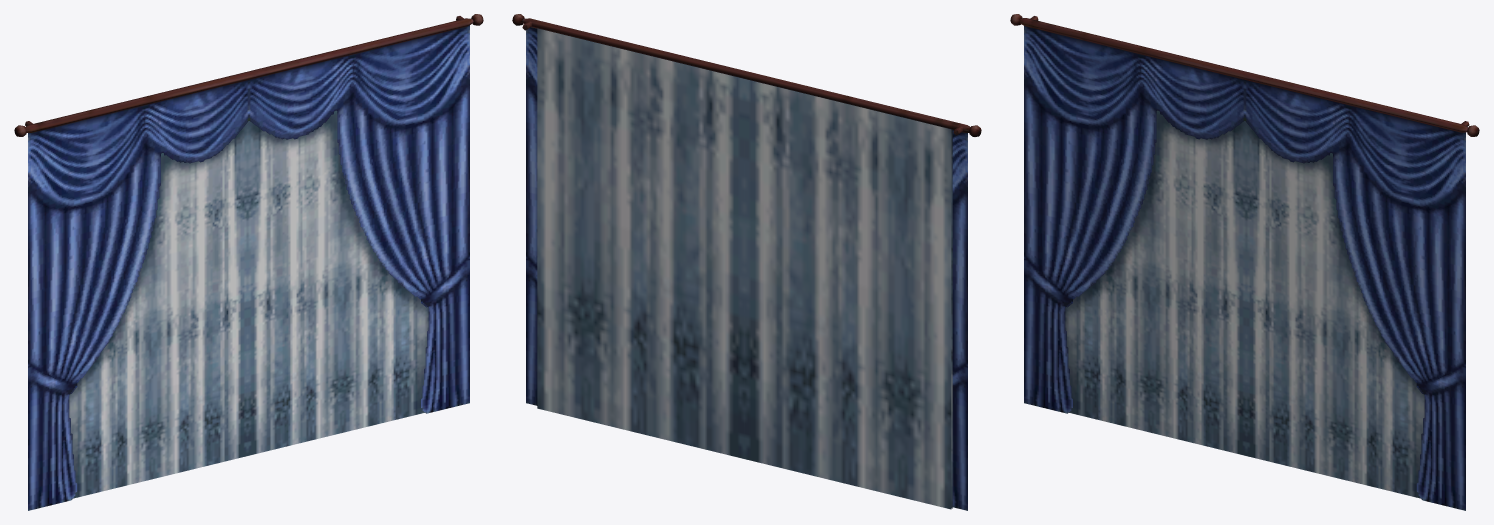
Rendered from furni_0201138_03.FBX.
The picture shows the model from 3 angles, left to right: view 1: azimuth 30°, elevation 25°; view 2: azimuth 150°, elevation 25°; view 3: azimuth 330°, elevation 25°; orthographic projection.
Parts seen in each view (by area): view 1: furni_0201138_03; view 2: furni_0201138_03; view 3: furni_0201138_03.
Boxes of the visible parts, x1,y1,x2,y2 form: furni_0201138_03: [14, 14, 483, 510]; furni_0201138_03: [512, 14, 981, 510]; furni_0201138_03: [1010, 14, 1479, 510].
Size of the model in its own units: 353 by 279 by 12.24.
2 materials, 2 textured.
